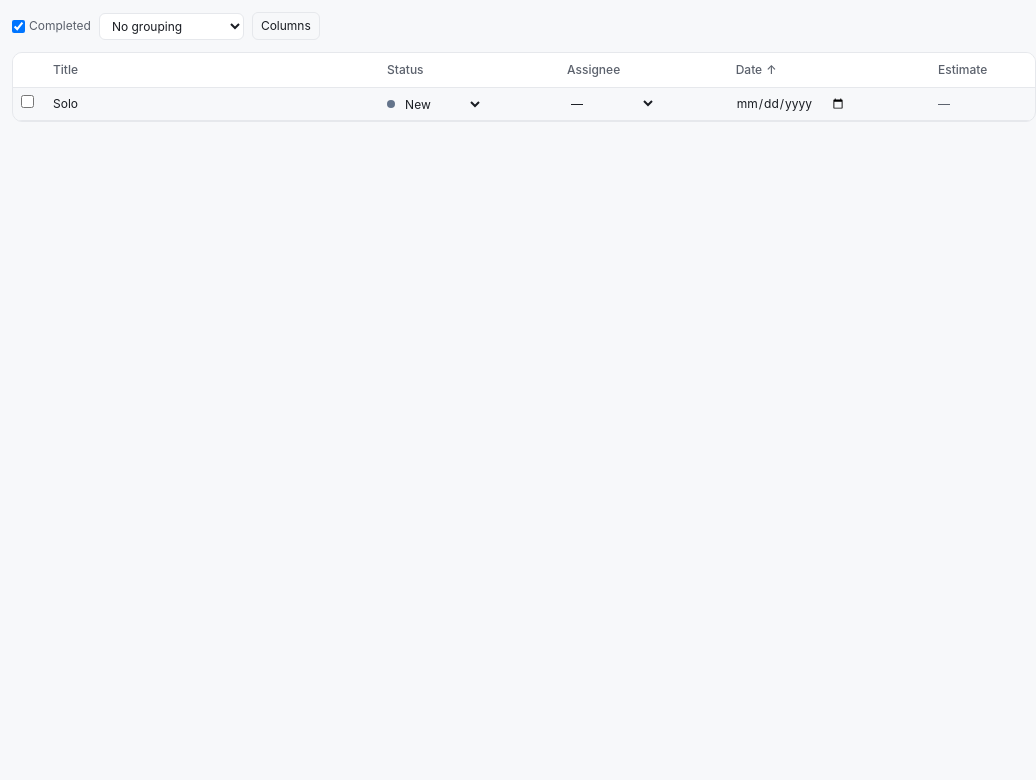
it: optimistic update + rollback › reverts the change and shows a toast when the PATCH fails
The width and height of the screenshot is (1036, 780).
Check: the field showing "Solo" is shown, box [53, 95, 371, 113]
Select "Completed" in the dropdown named "Status" at (442, 104), box [401, 96, 483, 112]
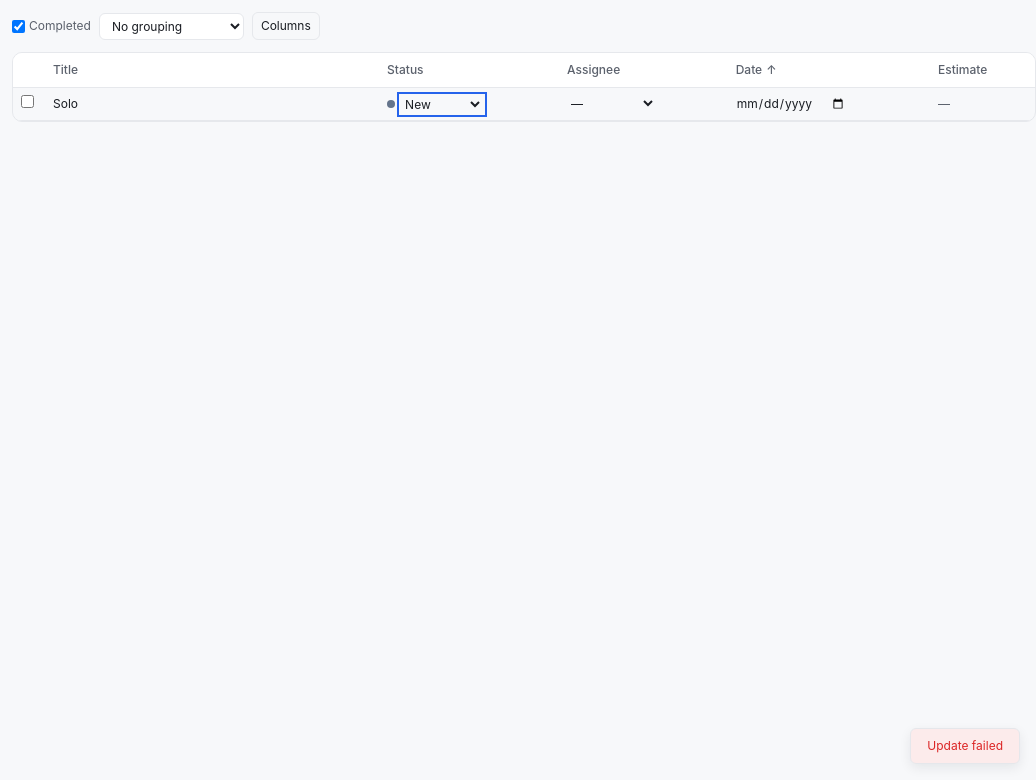
Check: the button "Update failed" is shown, box [910, 728, 1020, 764]
